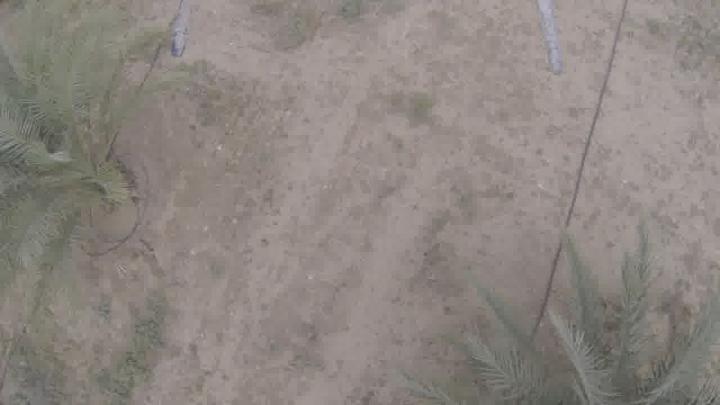Date-Palm-Crown: (0, 79, 108, 230), (528, 330, 708, 404)
